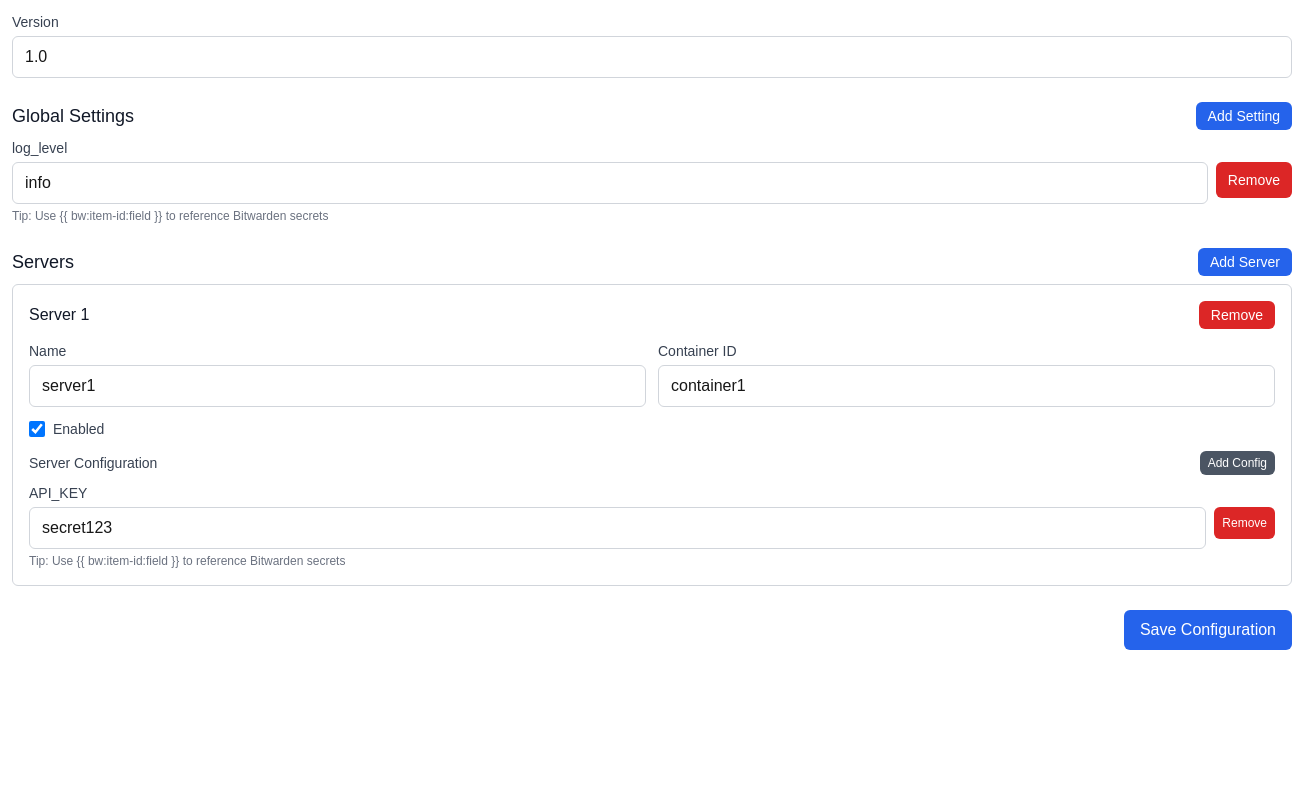
Scenario: ConfigForm › removes a server
Click the 2nd button "Remove".
click(1237, 315)  # box [1199,301,1275,329]
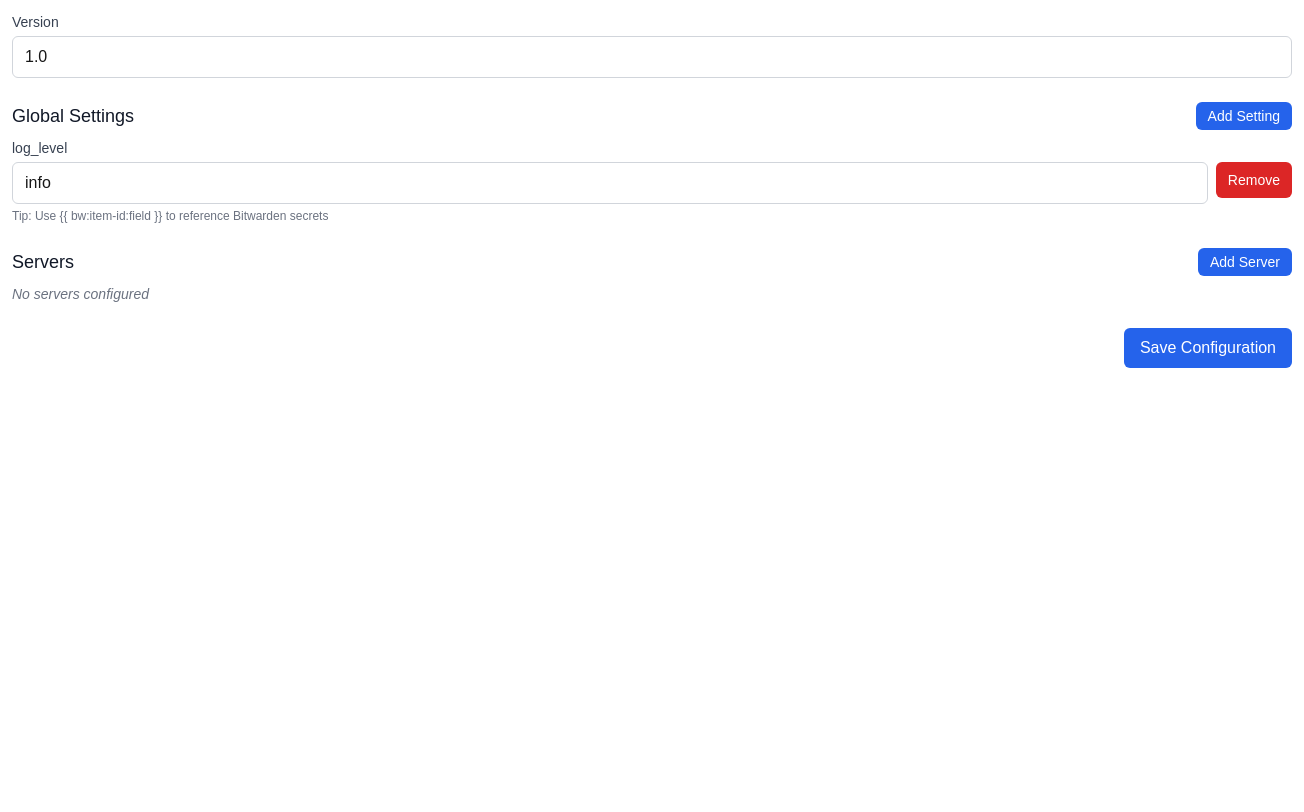
Check: the heading "Server 1" is gone
Check: the text "No servers configured" is shown, box [12,286,149,302]
